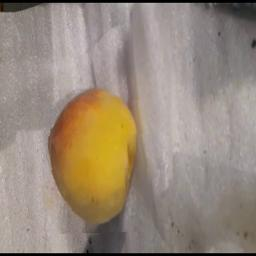Peach Semifresh: (46, 86, 153, 235)
